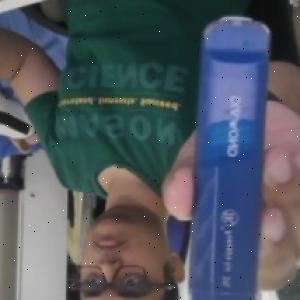Diamond-E-Ciggirate: (188, 15, 273, 300)
